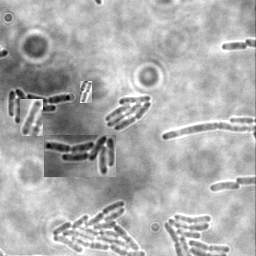Dividing: (161, 123, 255, 142), (221, 41, 248, 52), (80, 81, 92, 103)
Microcolony: (51, 200, 147, 255), (44, 135, 116, 177), (162, 212, 231, 255), (8, 89, 72, 126), (106, 96, 153, 132), (208, 182, 240, 193)
Rod: (20, 99, 43, 136)
